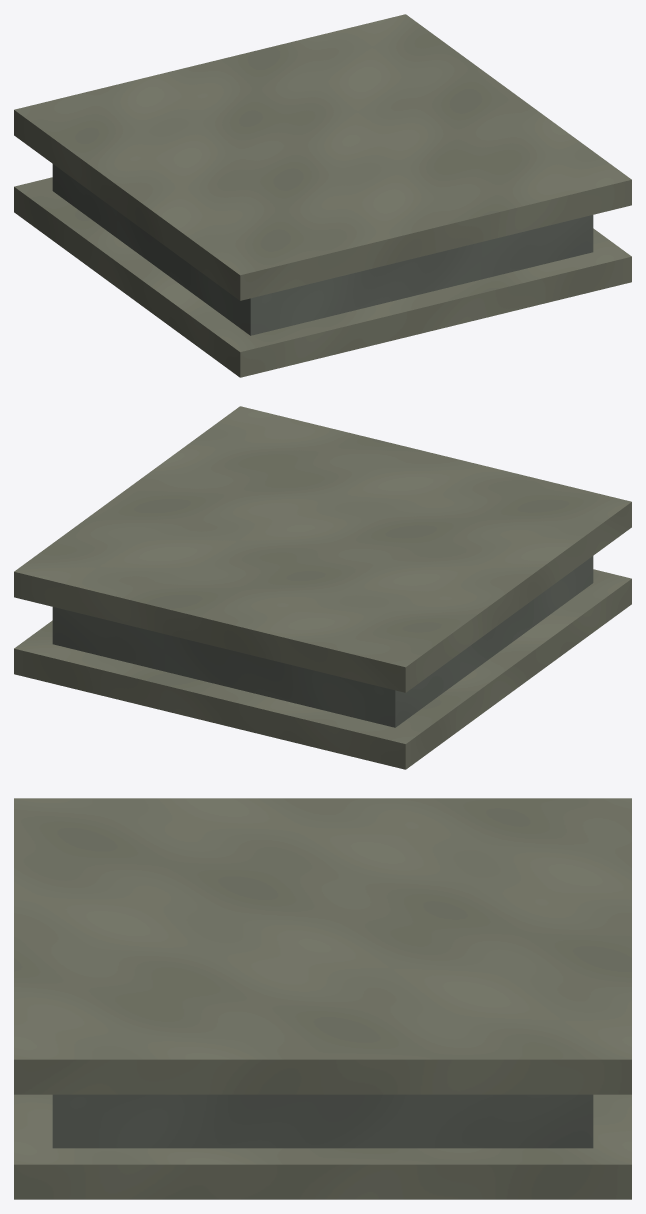
Rendered from PLINTH_SQUARE.glb.
3 views of the same model, one above another, from view 1: azimuth 30°, elevation 25°; view 2: azimuth 150°, elevation 25°; view 3: azimuth 270°, elevation 25° (orthographic). The views are drawn at different scales.
Parts seen in each view (by area): view 1: PLINTH_SQUARE; view 2: PLINTH_SQUARE; view 3: PLINTH_SQUARE.
Boxes of the visible parts, x1=… form: PLINTH_SQUARE: x1=14, y1=14, x2=631, y2=377; PLINTH_SQUARE: x1=14, y1=406, x2=631, y2=769; PLINTH_SQUARE: x1=14, y1=798, x2=631, y2=1199.
Bounding box in the file's own units: 2 × 0.5 × 2.
Materials: 2 (2 with a texture image).
